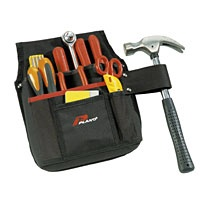hammer: (124, 33, 199, 173)
